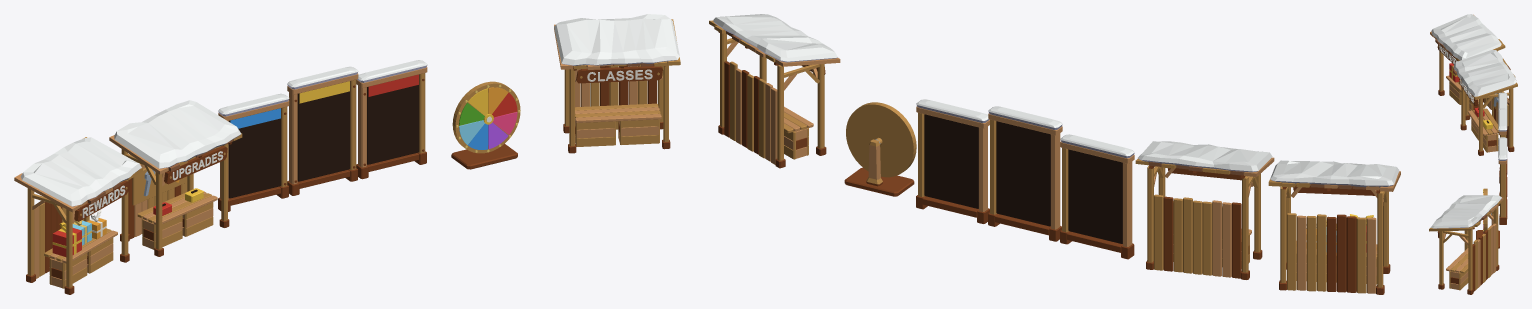
The model's file is RusticStalls_Updated.glb.
The picture shows the model from 3 angles, left to right: view 1: azimuth 30°, elevation 25°; view 2: azimuth 150°, elevation 25°; view 3: azimuth 270°, elevation 25°; orthographic projection. The views are drawn at different scales.
Visible parts, largest first — view 1: Classes, Rewards, Upgrades, Leaderboard02, Leaderboard03, Leaderboard01, PrizeWheel; view 2: Upgrades, Rewards, Classes, Leaderboard02, Leaderboard01, Leaderboard03, PrizeWheel; view 3: Classes, Upgrades, Rewards, Leaderboard03, Leaderboard02, PrizeWheel, Leaderboard01.
Boxes of the visible parts, x1,y1,x2,y2 form: Classes: [554, 14, 680, 153]; Rewards: [14, 137, 142, 294]; Upgrades: [109, 100, 242, 256]; Leaderboard02: [287, 66, 358, 195]; Leaderboard03: [356, 60, 427, 179]; Leaderboard01: [218, 93, 289, 211]; PrizeWheel: [451, 81, 520, 169]; Upgrades: [1135, 141, 1274, 279]; Rewards: [1268, 160, 1400, 294]; Classes: [709, 14, 840, 168]; Leaderboard02: [988, 106, 1062, 241]; Leaderboard01: [1060, 134, 1134, 259]; Leaderboard03: [916, 99, 989, 223]; PrizeWheel: [844, 102, 916, 196]; Classes: [1429, 195, 1503, 294]; Upgrades: [1452, 49, 1517, 155]; Rewards: [1430, 14, 1505, 120]; Leaderboard03: [1498, 137, 1507, 224]; Leaderboard02: [1498, 108, 1507, 196]; PrizeWheel: [1476, 188, 1499, 248]; Leaderboard01: [1498, 92, 1507, 174].
Size of the model in its own units: 16.58 by 2.69 by 2.92.
Materials: 1 (1 with a texture image).
